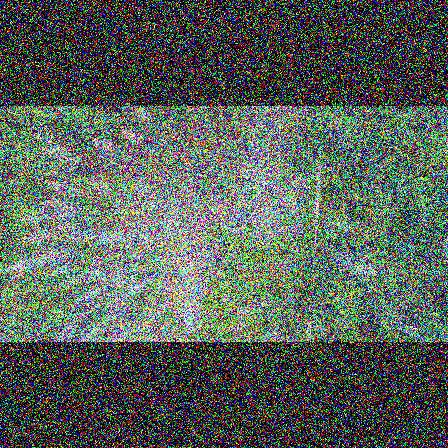Dead: (105, 270, 160, 312), (2, 246, 73, 273), (78, 310, 128, 341), (56, 310, 106, 341), (35, 141, 88, 169), (332, 250, 378, 279), (17, 225, 78, 245), (43, 178, 84, 198), (100, 264, 137, 285), (88, 136, 123, 158), (94, 232, 139, 248), (17, 209, 64, 224), (69, 226, 103, 245), (83, 253, 119, 269), (84, 268, 119, 284), (121, 126, 144, 150), (95, 152, 123, 171), (60, 272, 92, 288), (133, 107, 150, 133)
